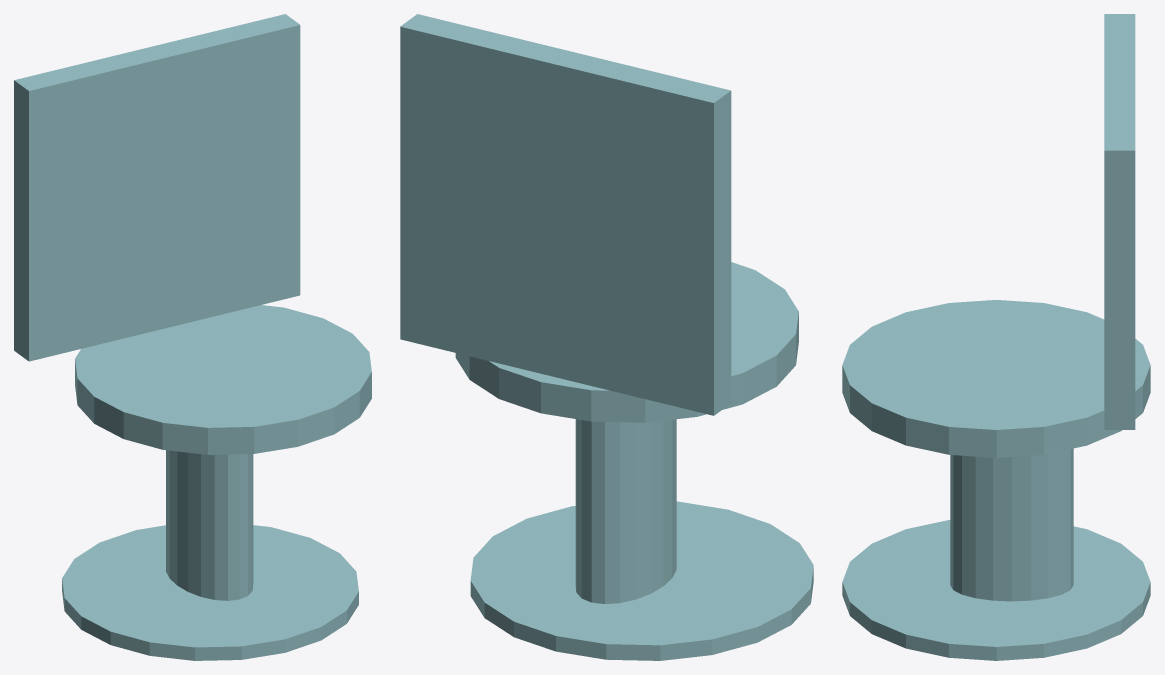
File: Mighty Esboo.glb
3 renders of one model, left to right at view 1: azimuth 30°, elevation 25°; view 2: azimuth 150°, elevation 25°; view 3: azimuth 270°, elevation 25°, orthographic. The views are drawn at different scales.
Visible parts, largest first — view 1: Mesh_Mesh_head_geo.001_lambert2SG.001; view 2: Mesh_Mesh_head_geo.001_lambert2SG.001; view 3: Mesh_Mesh_head_geo.001_lambert2SG.001.
Boxes of the visible parts, x1=… form: Mesh_Mesh_head_geo.001_lambert2SG.001: x1=14, y1=14, x2=371, y2=660; Mesh_Mesh_head_geo.001_lambert2SG.001: x1=400, y1=14, x2=813, y2=660; Mesh_Mesh_head_geo.001_lambert2SG.001: x1=842, y1=14, x2=1150, y2=660.
Bounding box in the file's own units: 21 × 37 × 20.
